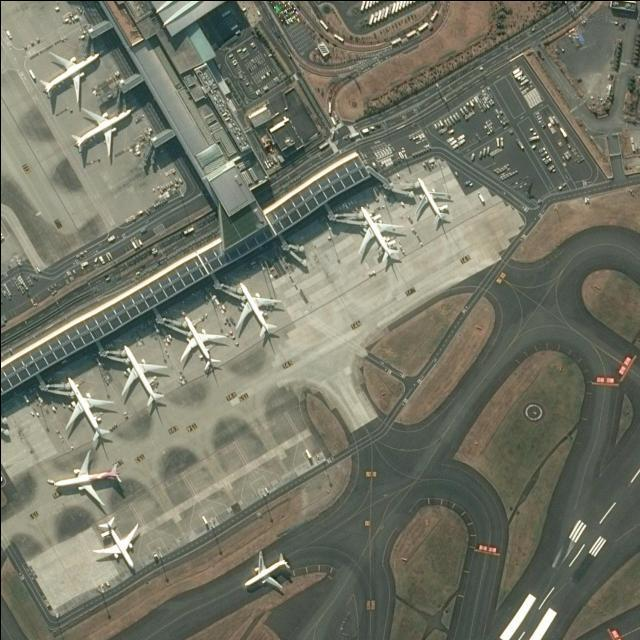Aircraft: (50, 453, 127, 510), (60, 376, 117, 445), (37, 47, 100, 104), (75, 104, 135, 161), (119, 345, 171, 406), (355, 207, 405, 261), (234, 282, 282, 338), (179, 314, 225, 371), (95, 517, 143, 571), (243, 553, 296, 595), (411, 175, 453, 220)
